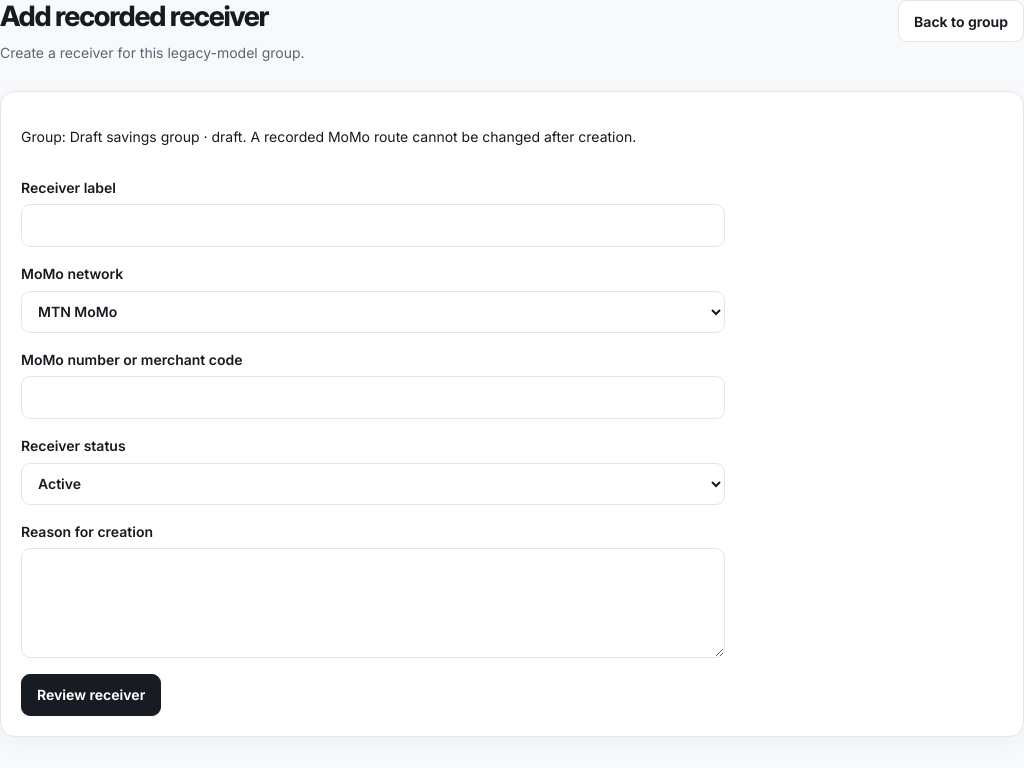
legacy distinct payee creation › keeps the original key if the post receipt and actor-scoped lookup disagree
The width and height of the screenshot is (1024, 768).
Type "Recorded beneficiary" into the field labelled "Receiver label" at {"x": 373, "y": 226}, box [21, 204, 725, 247]
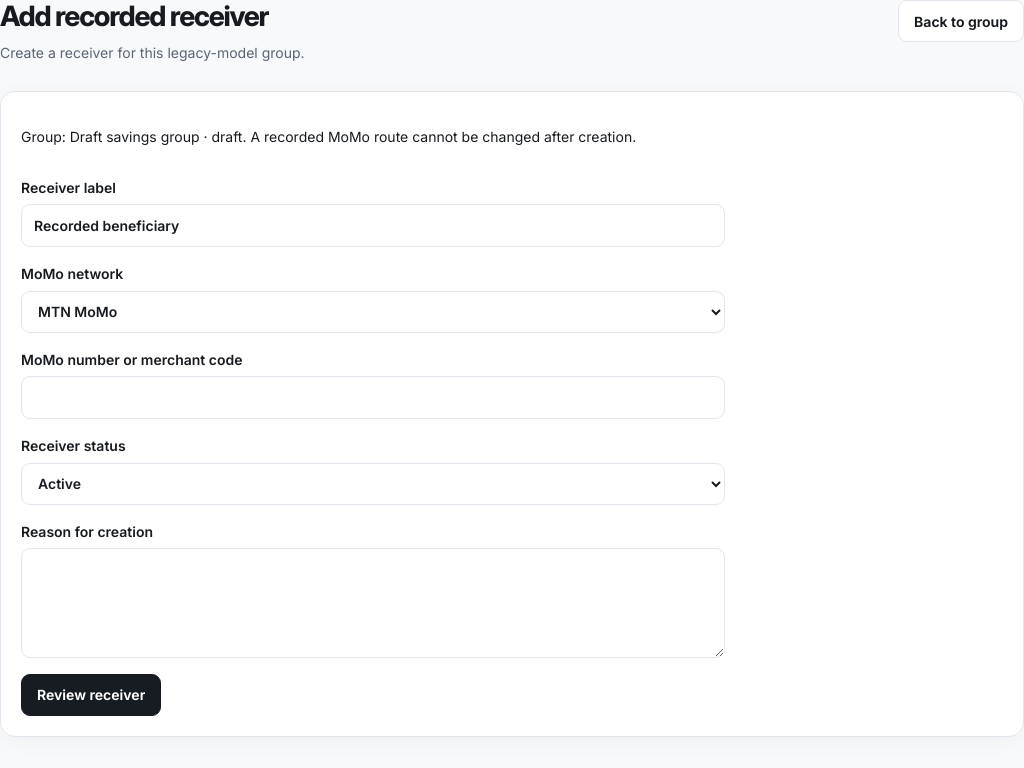
Type "008000" into the field labelled "MoMo number or merchant code" at {"x": 373, "y": 398}, box [21, 376, 725, 419]
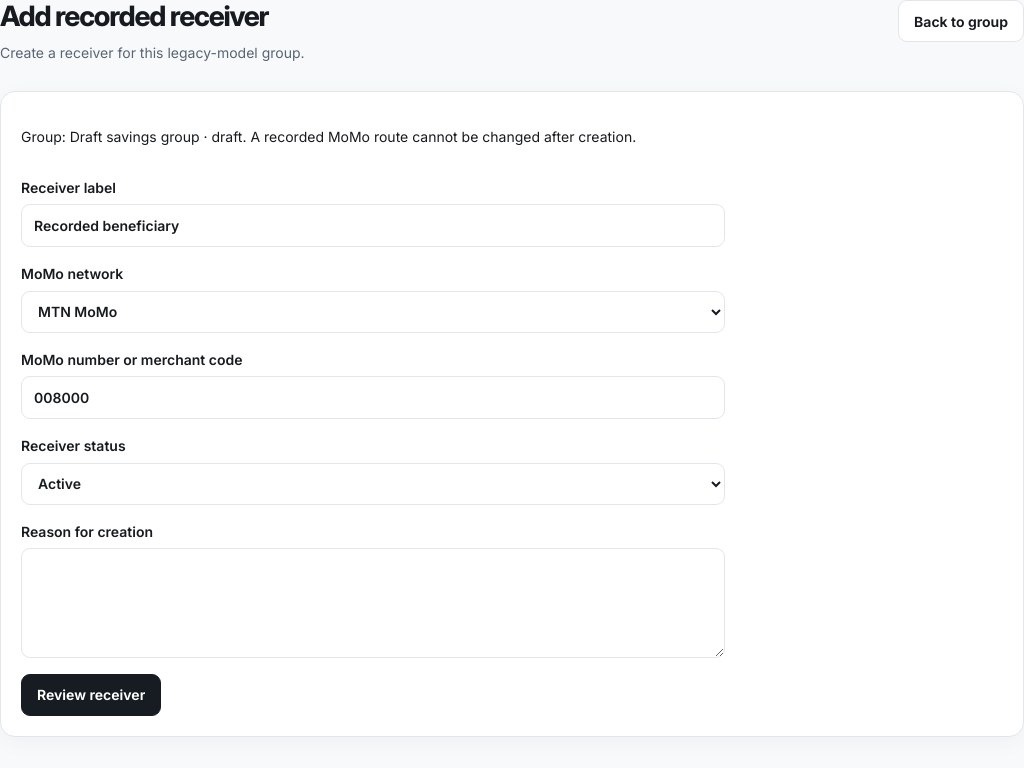
Type "Record reviewed receiver" into the text box labelled "Reason for creation" at {"x": 373, "y": 603}, box [21, 548, 725, 658]
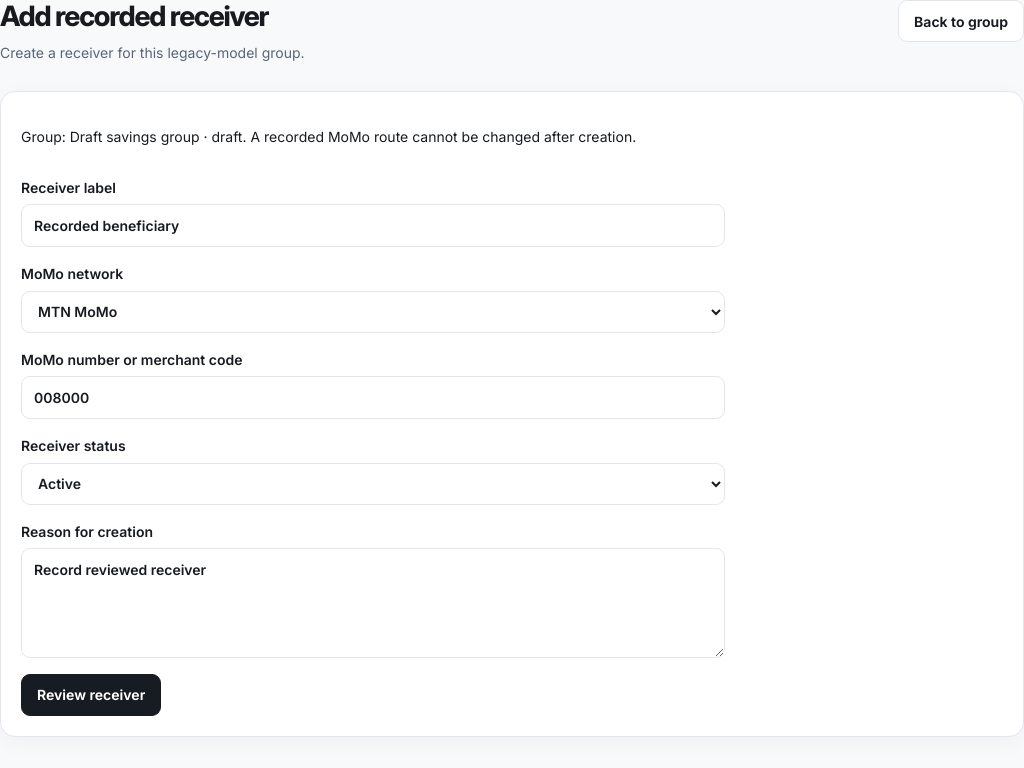
Click the button "Review receiver" at {"x": 91, "y": 695}, box [21, 674, 161, 716]
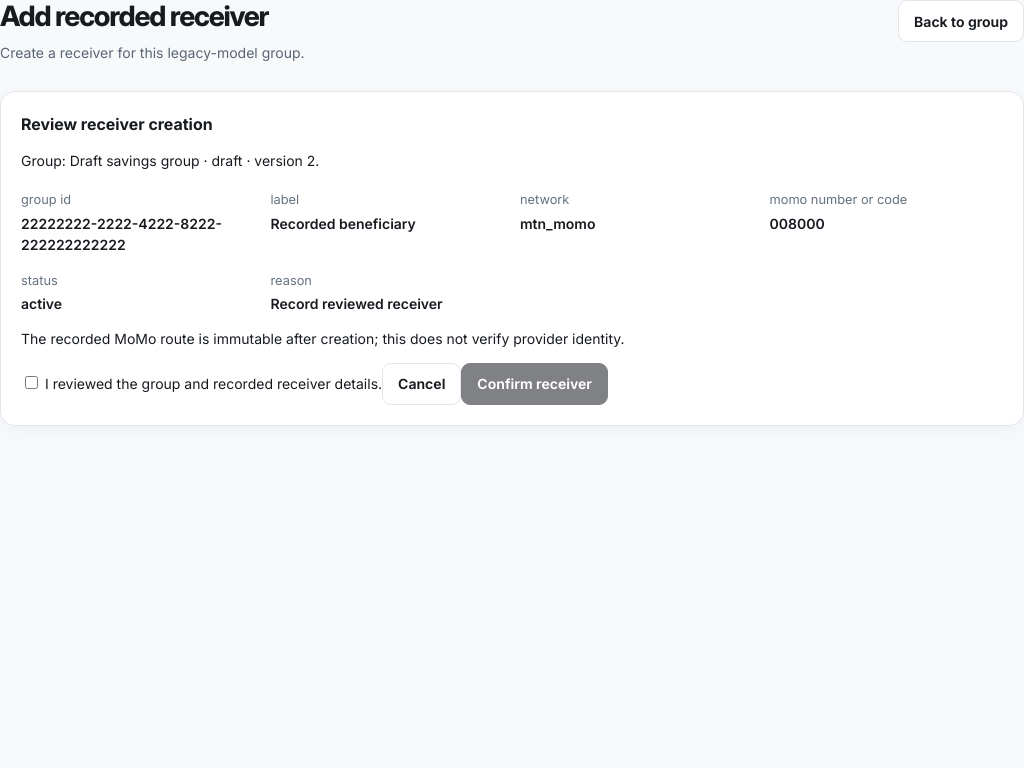
Click the checkbox at {"x": 32, "y": 383}, box [25, 376, 38, 390]
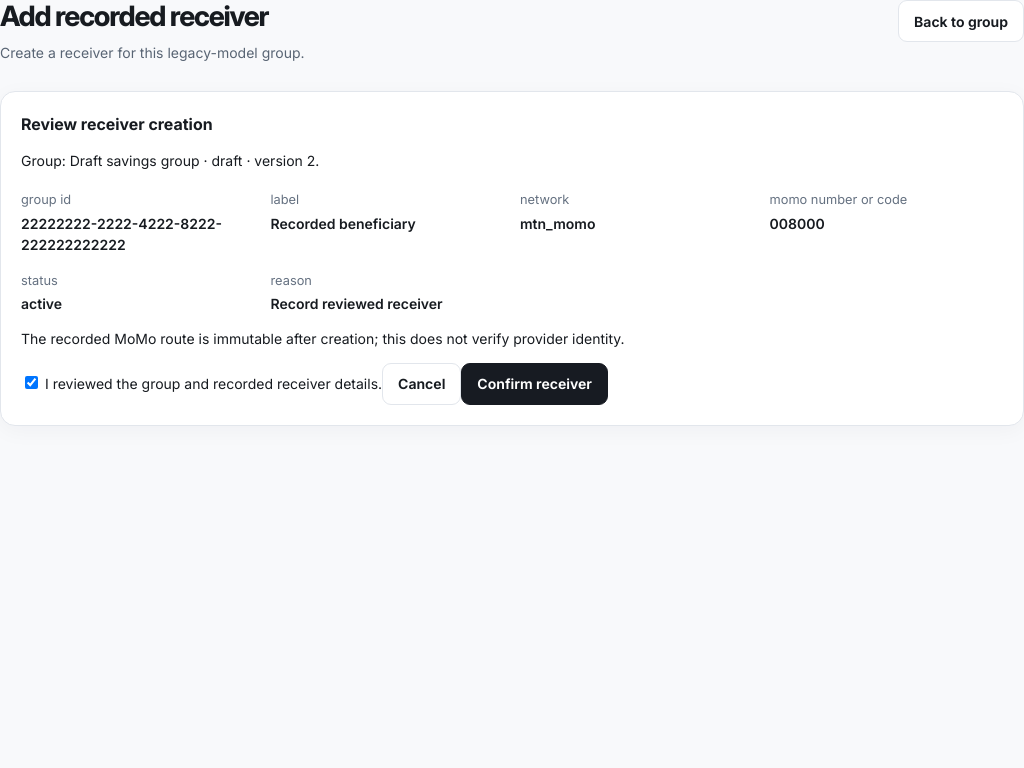
Click the button "Confirm receiver" at {"x": 535, "y": 384}, box [461, 363, 608, 405]
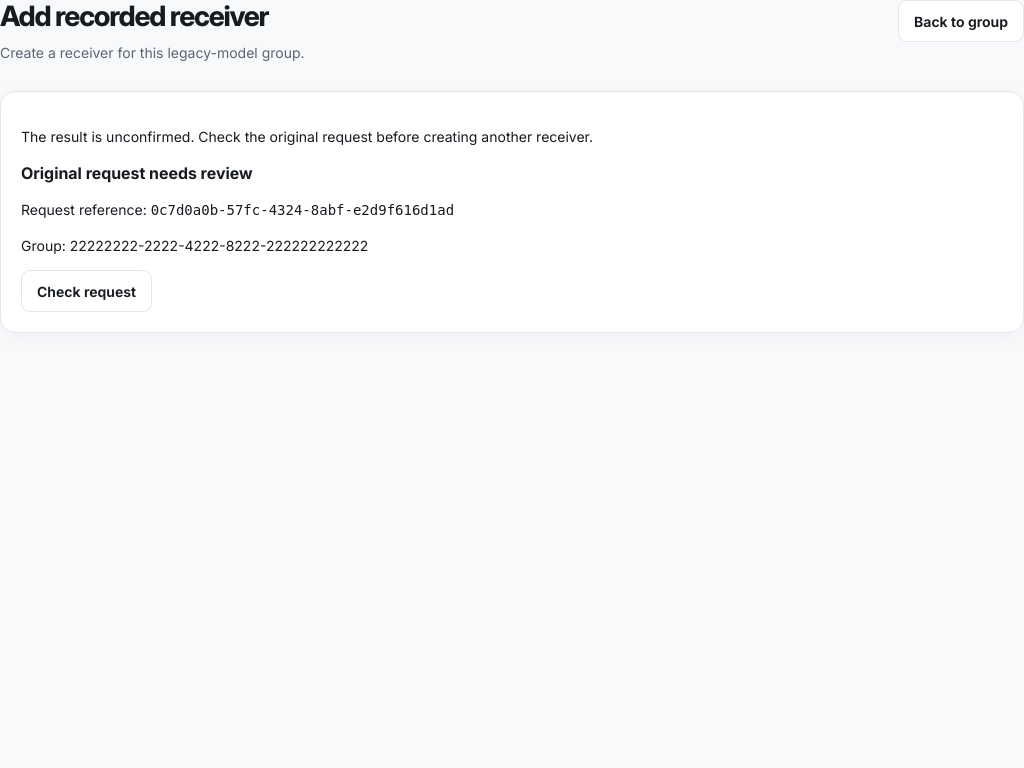
Check: the text "result is unconfirmed" is shown, box [21, 128, 593, 145]
